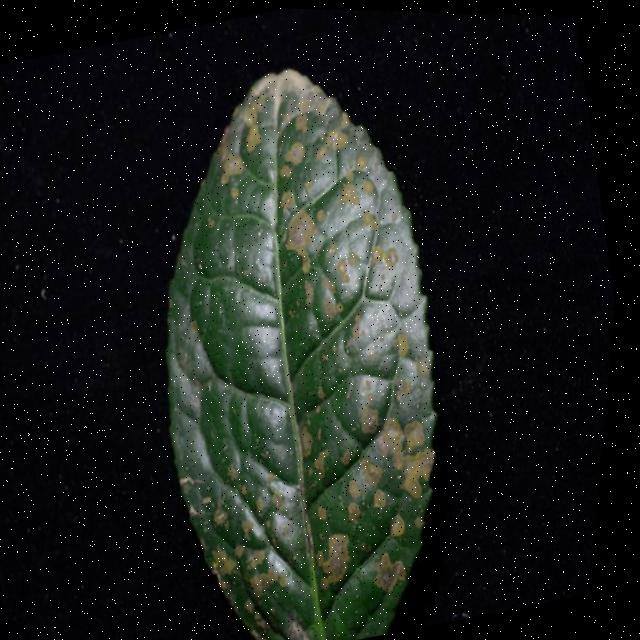Tea red rust: (97, 45, 504, 631)
